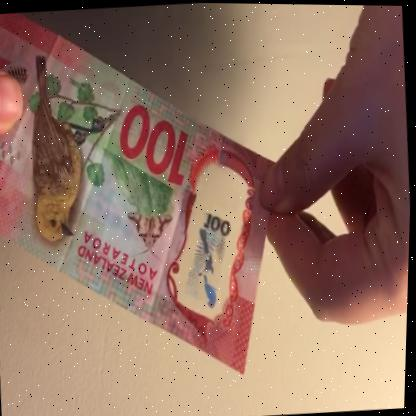100B: (176, 193, 239, 313)
